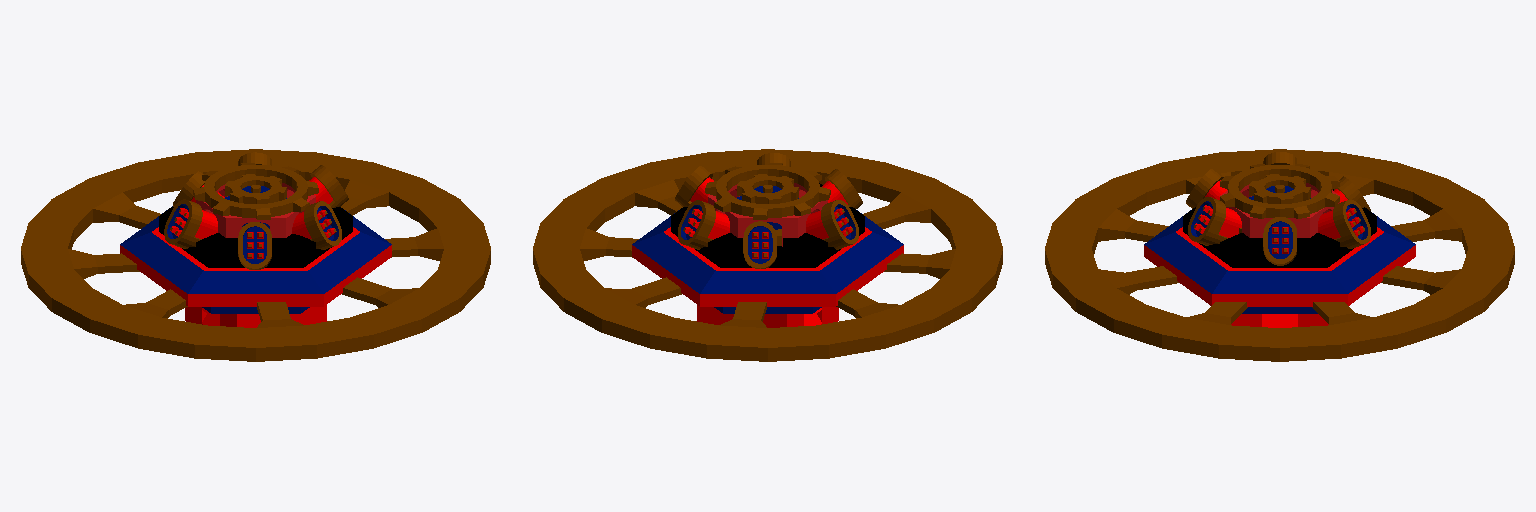
Rendered from pew_all_directions.obj.
3 renders of one model, left to right at view 1: azimuth 30°, elevation 25°; view 2: azimuth 150°, elevation 25°; view 3: azimuth 270°, elevation 25°, orthographic.
Parts seen in each view (by area): view 1: mergedBlocks; view 2: mergedBlocks; view 3: mergedBlocks.
Part boxes in pixels (bbox=[...]): mergedBlocks: bbox=[21, 149, 490, 361]; mergedBlocks: bbox=[533, 149, 1002, 361]; mergedBlocks: bbox=[1045, 149, 1514, 361].
Size of the model in its own units: 4.5 by 1.54 by 4.5.